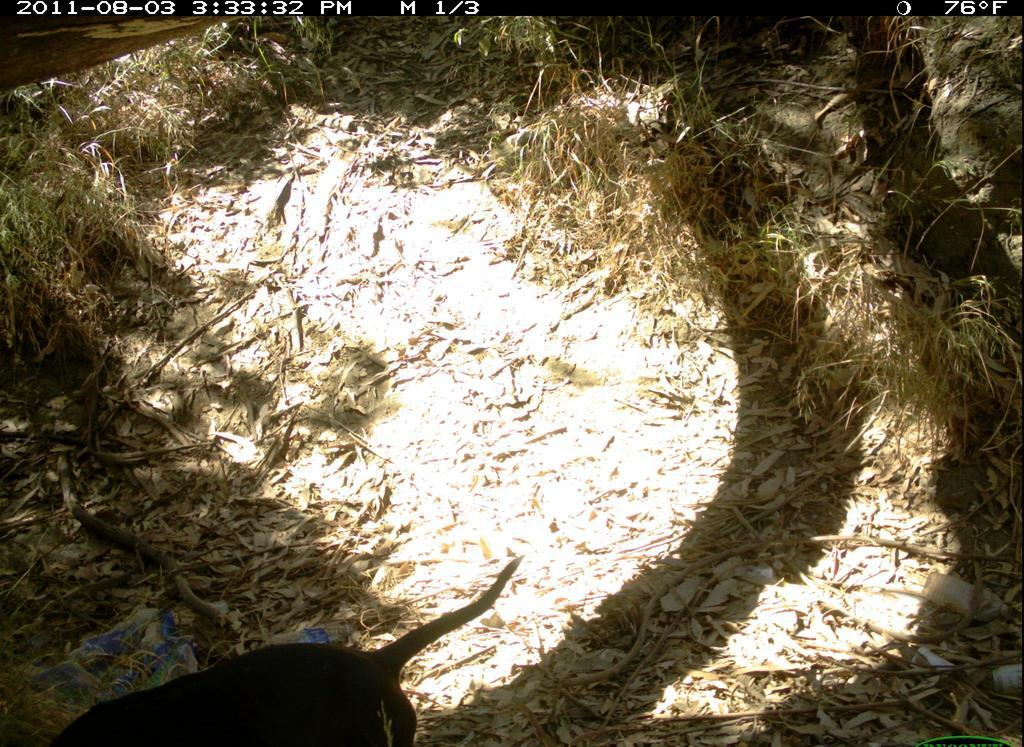dog: (43, 561, 528, 734)
